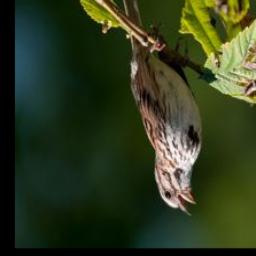Sparrow: (116, 0, 203, 218)
